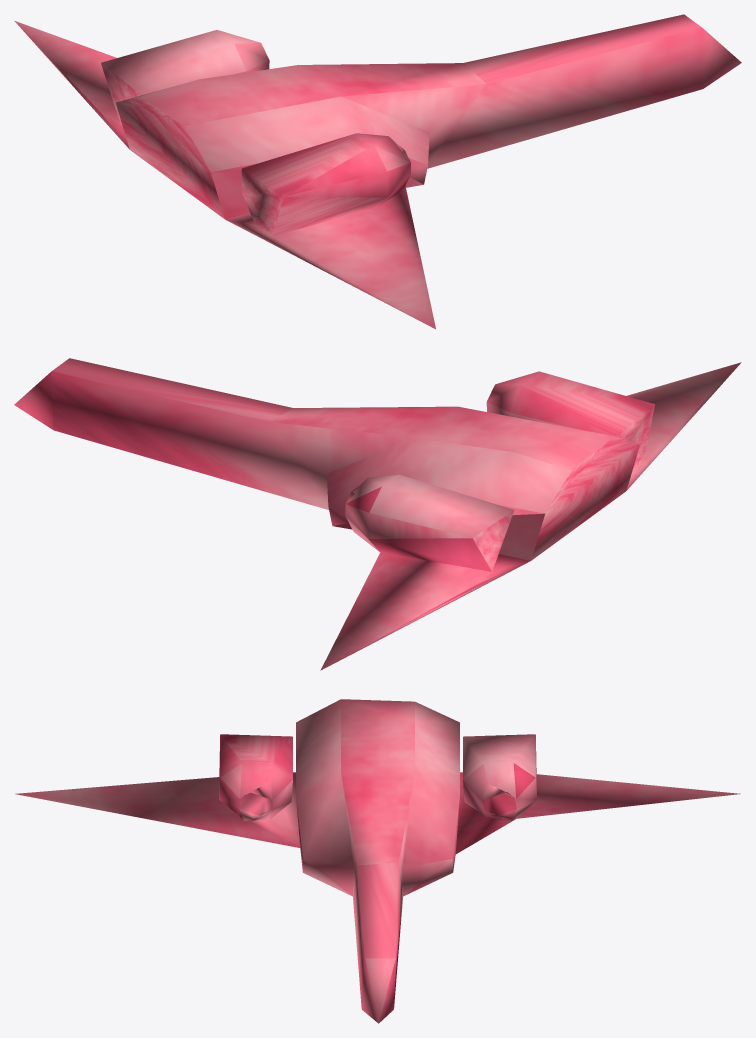
Rendered from 01_3_shield.obj.
3 views of the same model, one above another, from view 1: azimuth 30°, elevation 25°; view 2: azimuth 150°, elevation 25°; view 3: azimuth 270°, elevation 25° (orthographic). The views are drawn at different scales.
Parts seen in each view (by area): view 1: Sam; view 2: Sam; view 3: Sam.
Part boxes in pixels (x1,y1,x2,y2): Sam: (14, 14, 741, 329); Sam: (14, 358, 741, 670); Sam: (15, 699, 740, 1023).
Size of the model in its own units: 88.71 by 16.12 by 112.
1 material, 1 textured.
